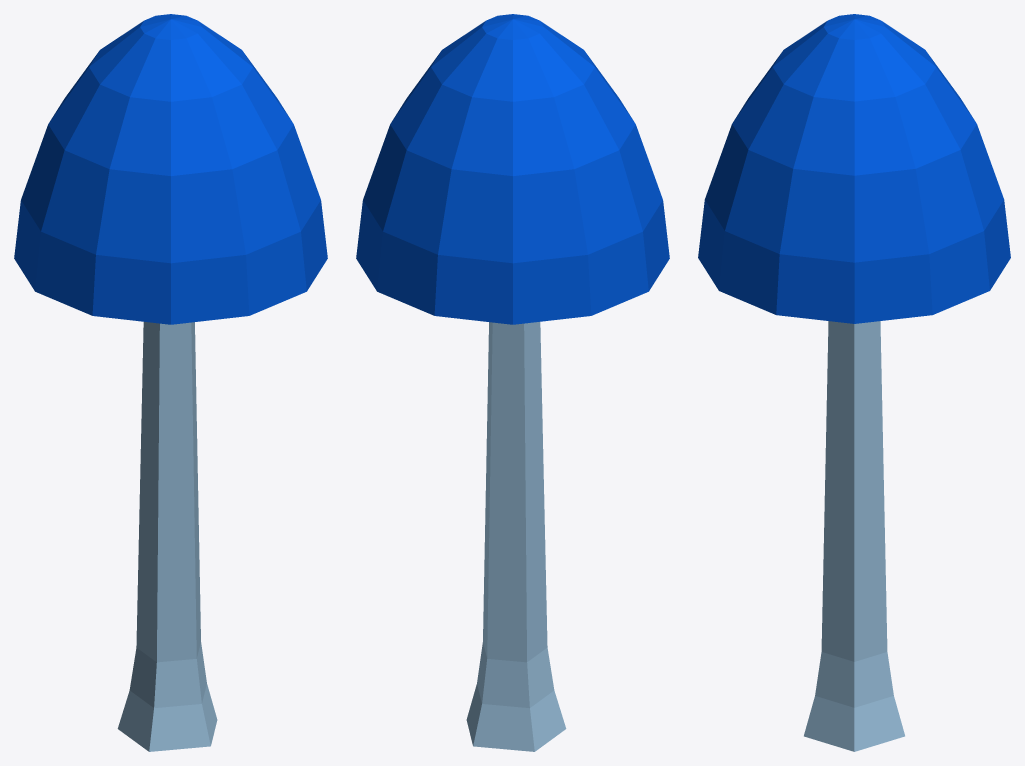
Rendered from SK_Mushroom_00.fbx.
3 renders of one model, left to right at view 1: azimuth 30°, elevation 25°; view 2: azimuth 150°, elevation 25°; view 3: azimuth 270°, elevation 25°, orthographic.
Parts seen in each view (by area): view 1: Cap; view 2: Cap; view 3: Cap.
Part boxes in pixels (box(x1,y1,x2,y2)): Cap: box(14, 14, 327, 751); Cap: box(356, 14, 669, 751); Cap: box(698, 14, 1010, 751).
Bounding box in the file's own units: 137 × 343 × 137.
